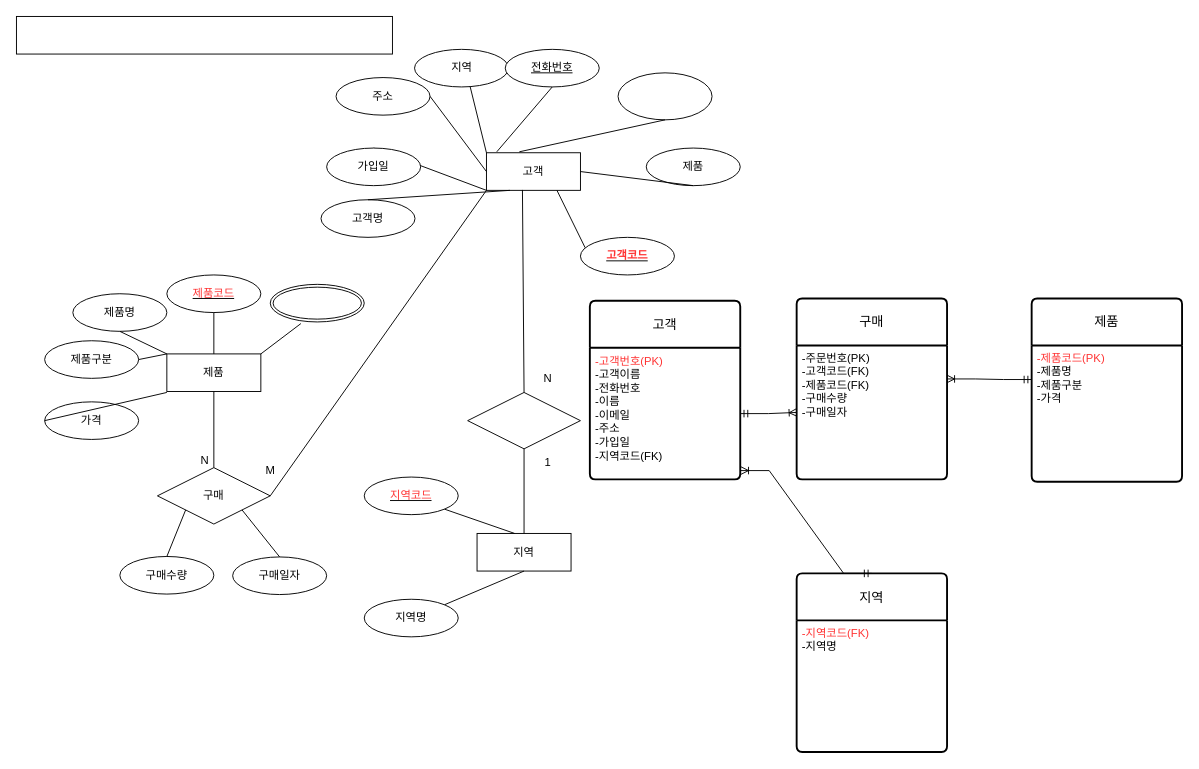
Some shapes in this 1199 by 769 pixel diagram are drawn without their labels. Here are the shapes that lost their labels. From the top down, the centre of each, then its label:
(x=204, y=35): Logical Data Modeling(RM)
(x=664, y=96): 이메일
(x=316, y=302): 제품색상
(x=523, y=420): 관리
